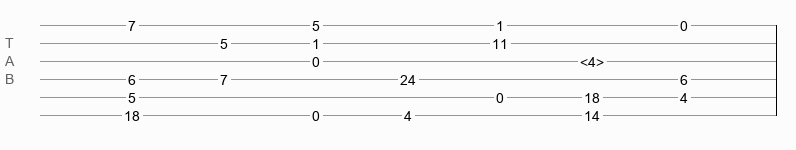0: (312, 54, 320, 64), (312, 108, 320, 118), (496, 90, 504, 100), (680, 18, 688, 28)
1: (312, 36, 320, 46), (496, 18, 504, 28)
11: (492, 36, 508, 46)
14: (584, 108, 600, 118)
18: (124, 108, 140, 118), (584, 90, 600, 100)
24: (400, 72, 416, 82)
4: (404, 108, 412, 118), (680, 90, 688, 100)
5: (128, 90, 136, 100), (220, 36, 228, 46), (312, 18, 320, 28)
6: (128, 72, 136, 82), (680, 72, 688, 82)
7: (128, 18, 136, 28), (220, 72, 228, 82)
harmonic: (580, 54, 604, 64)
